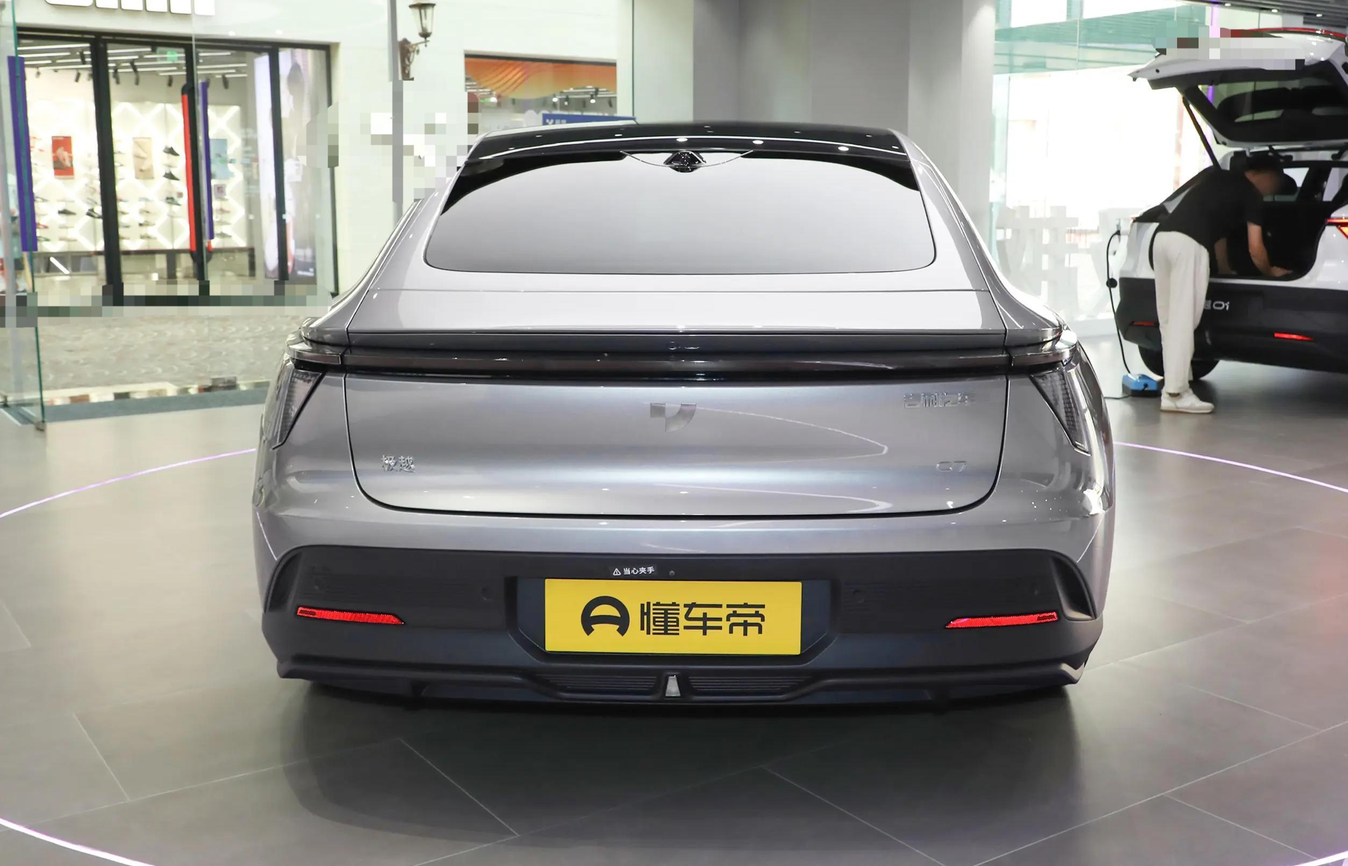JIYUE: (649, 402, 697, 434)
